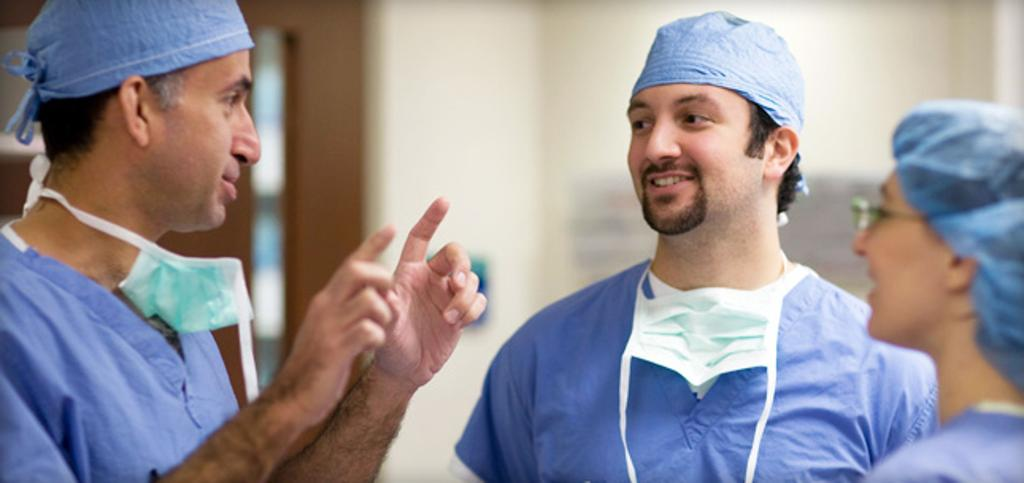face: (152, 40, 262, 228), (632, 68, 766, 218), (854, 164, 944, 342)
